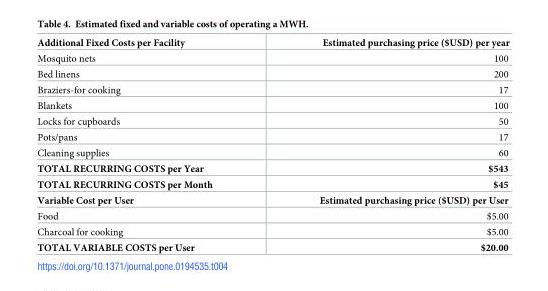table: (36, 37, 508, 252)
table column: (265, 37, 508, 252), (36, 37, 265, 252)
table column header: (36, 37, 508, 50)
table row: (36, 50, 508, 66), (36, 81, 508, 97), (36, 97, 508, 113), (36, 113, 508, 129), (36, 144, 508, 160), (36, 160, 508, 176), (36, 176, 508, 192), (36, 192, 508, 208), (36, 223, 508, 239), (36, 66, 508, 81), (36, 129, 508, 144), (36, 208, 508, 223), (36, 37, 508, 50), (36, 239, 508, 252)
